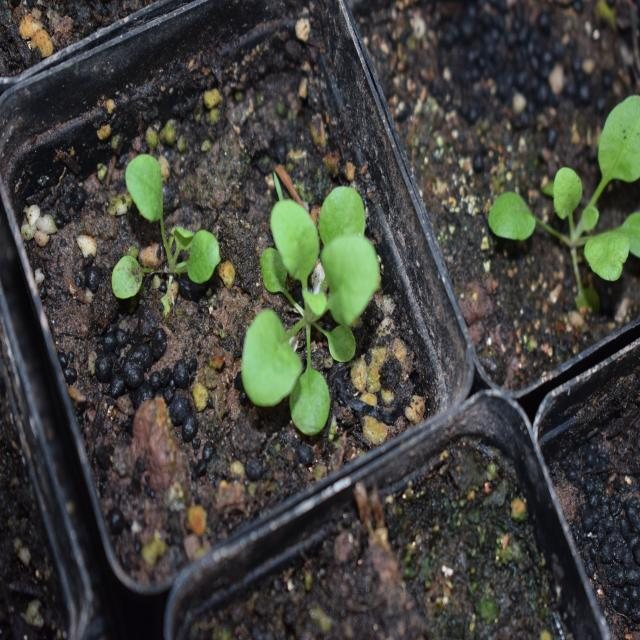Shepherd_Purse: (243, 173, 401, 455), (116, 147, 235, 312)
